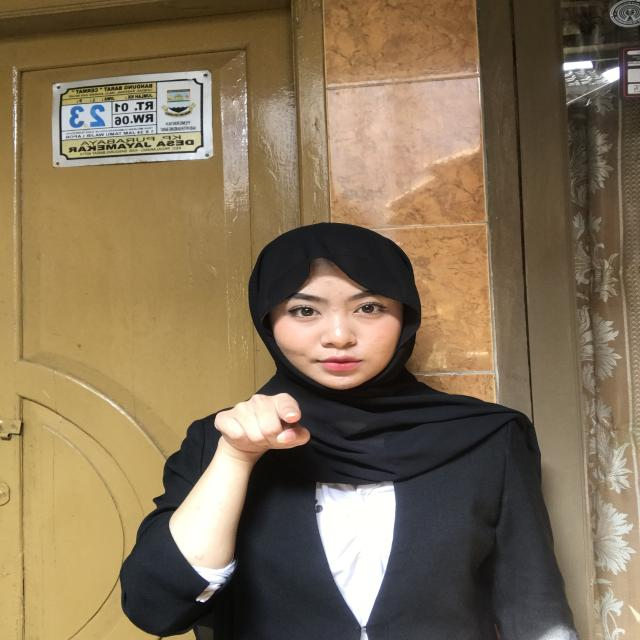kamu: (193, 390, 320, 472)
